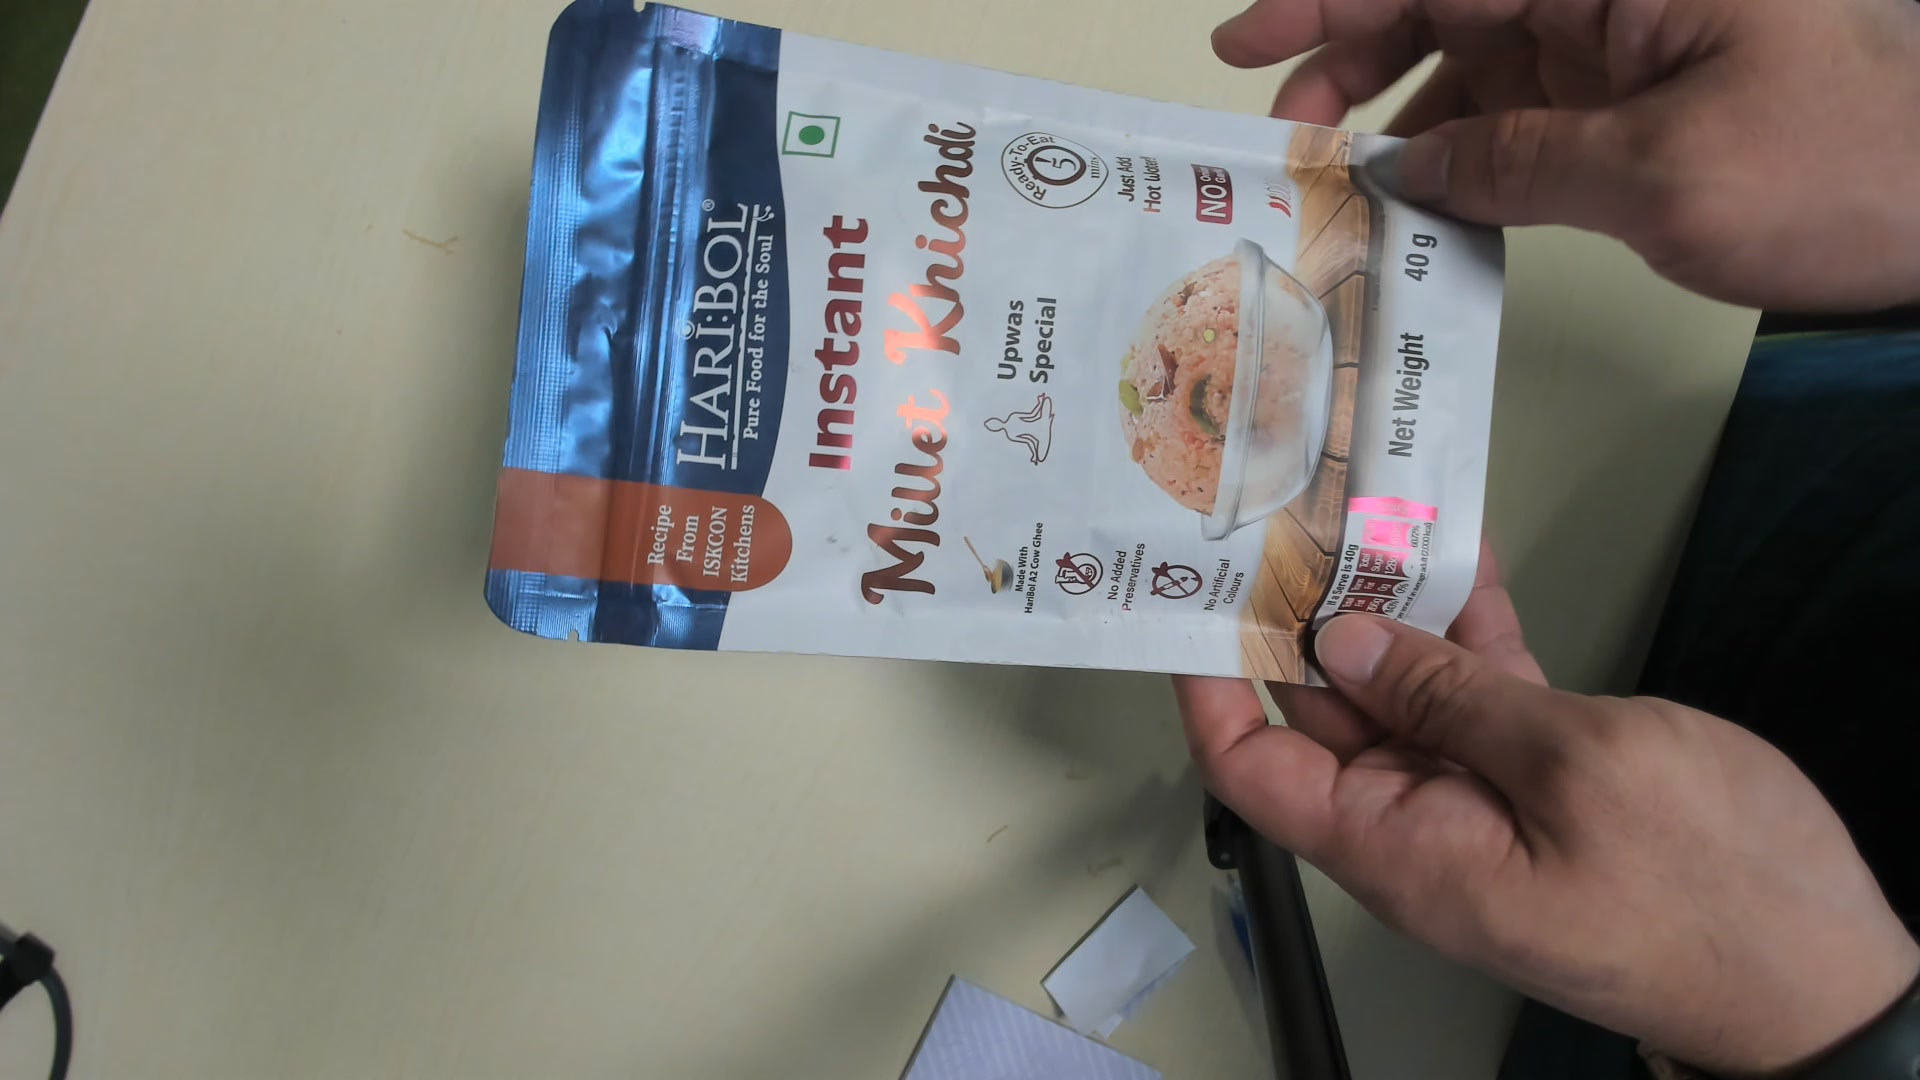InstantMeals_0-99g_NonHalal_NonHealthy: (484, 1, 1509, 694)
